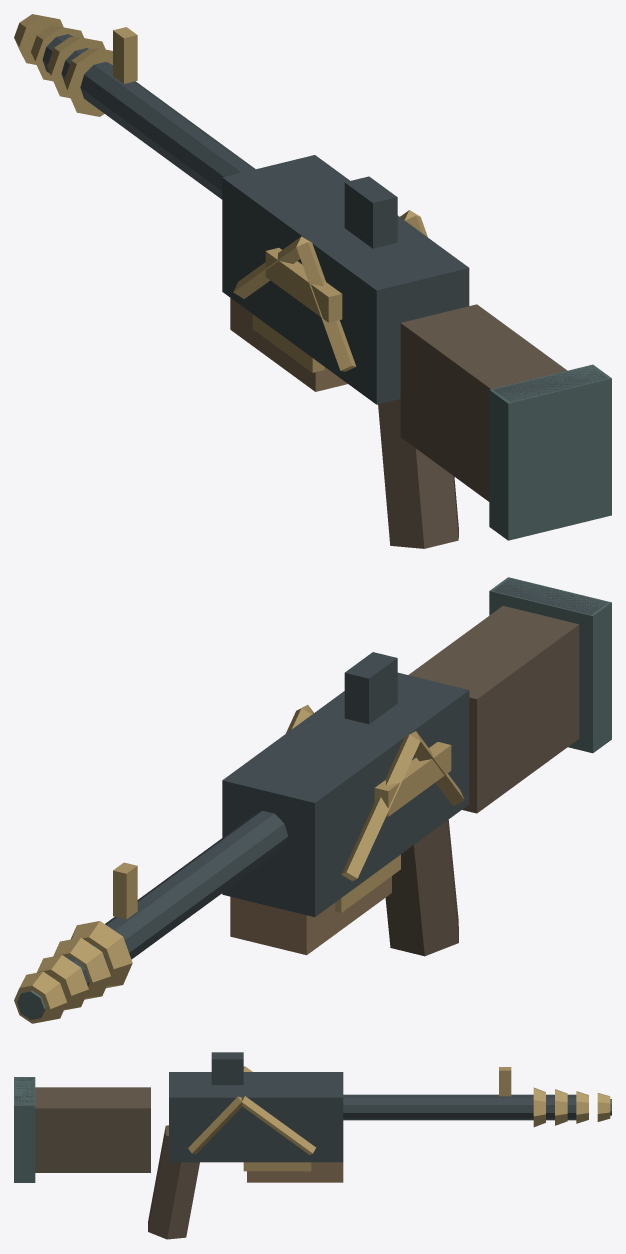
File: Arsenal_ArmorBorer.fbx
3 renders of one model, top to bottom at view 1: azimuth 30°, elevation 25°; view 2: azimuth 150°, elevation 25°; view 3: azimuth 270°, elevation 25°, orthographic. The views are drawn at different scales.
Parts seen in each view (by area): view 1: Arsenal_ArmorBorer; view 2: Arsenal_ArmorBorer; view 3: Arsenal_ArmorBorer.
Boxes of the visible parts, left/top/right/bottom form: Arsenal_ArmorBorer: left=14, top=14, right=611, bottom=548; Arsenal_ArmorBorer: left=14, top=577, right=611, bottom=1023; Arsenal_ArmorBorer: left=14, top=1052, right=611, bottom=1239.
Bounding box in the file's own units: 0.228 × 0.549 × 1.68.
